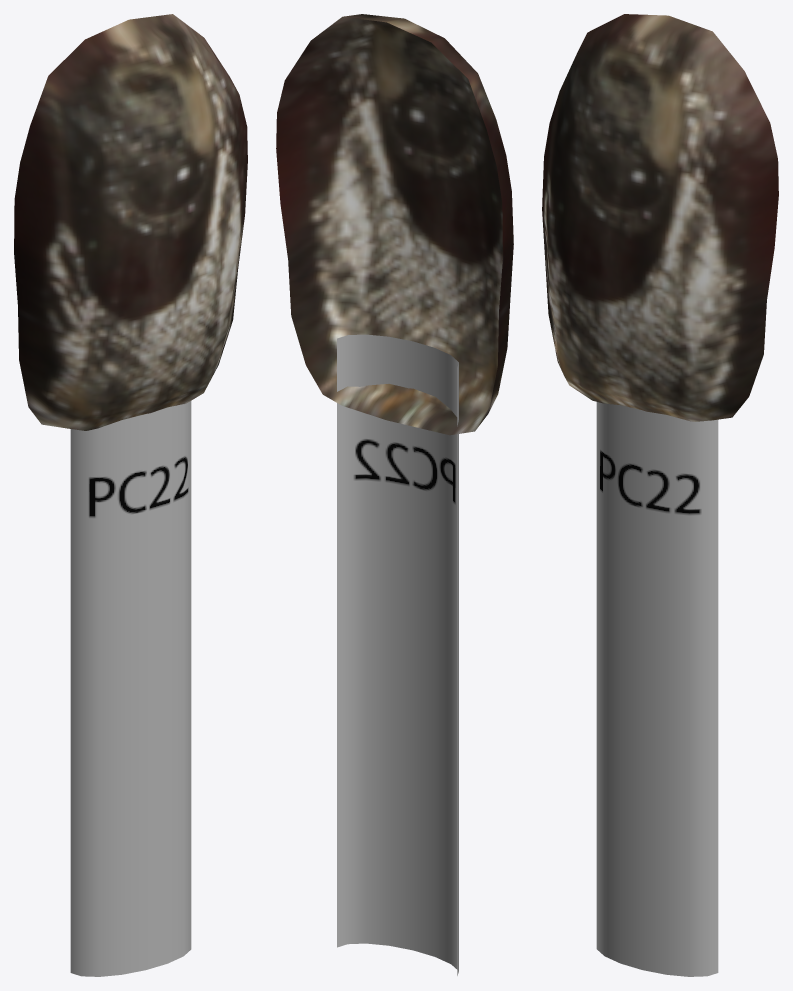
The picture shows the model from 3 angles, left to right: view 1: azimuth 30°, elevation 25°; view 2: azimuth 150°, elevation 25°; view 3: azimuth 330°, elevation 25°; orthographic projection.
Parts seen in each view (by area): view 1: Tab; view 2: Tab; view 3: Tab.
Boxes of the visible parts, x1,y1,x2,y2 form: Tab: (14,14,247,976); Tab: (276,14,513,975); Tab: (542,14,778,976).
Size of the model in its own units: 0.00725 by 0.0288 by 0.00249.
Materials: 1 (1 with a texture image).
